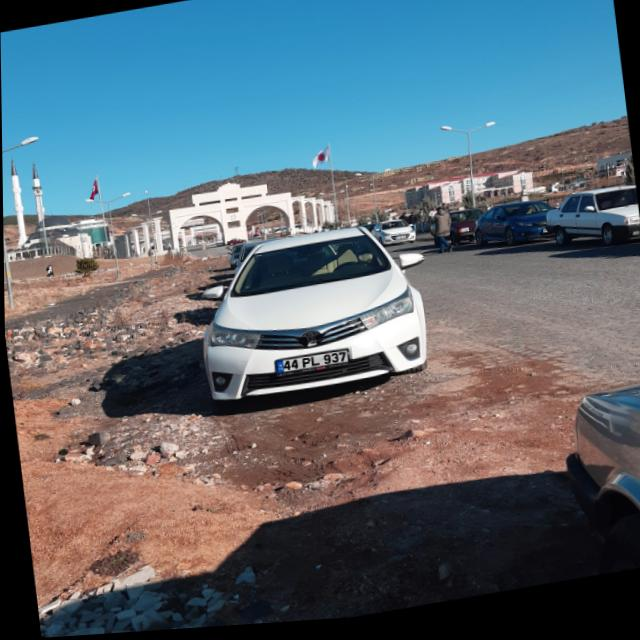license_plate: (274, 352, 350, 378)
